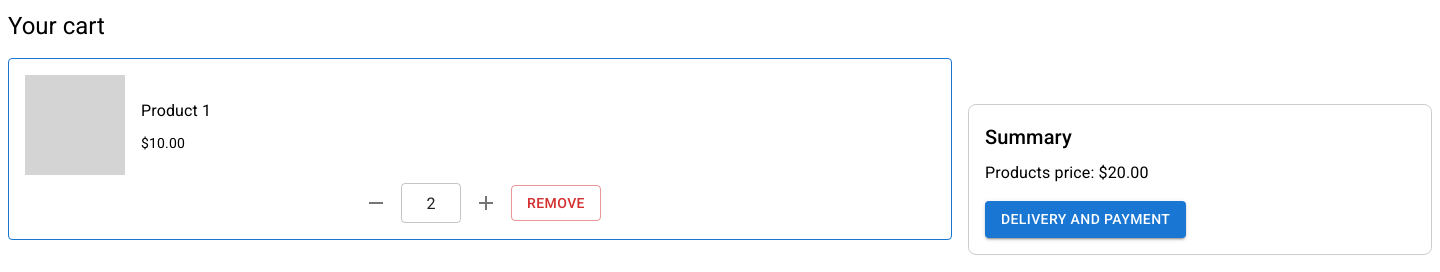
Scenario: Cart integration tests › increments and decrements product quantity
Click the button with test id "increment-button-1" at (486, 203), box left=469, top=186, right=503, bottom=220
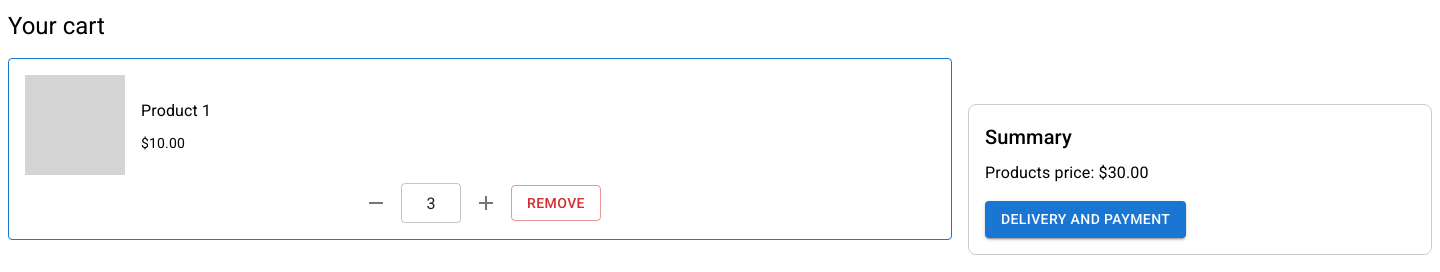
Expected: the number field named "Quantity for product #1" holds "3", left=401, top=183, right=461, bottom=223
Click the button with test id "decrement-button-1" at (376, 203), box left=359, top=186, right=393, bottom=220
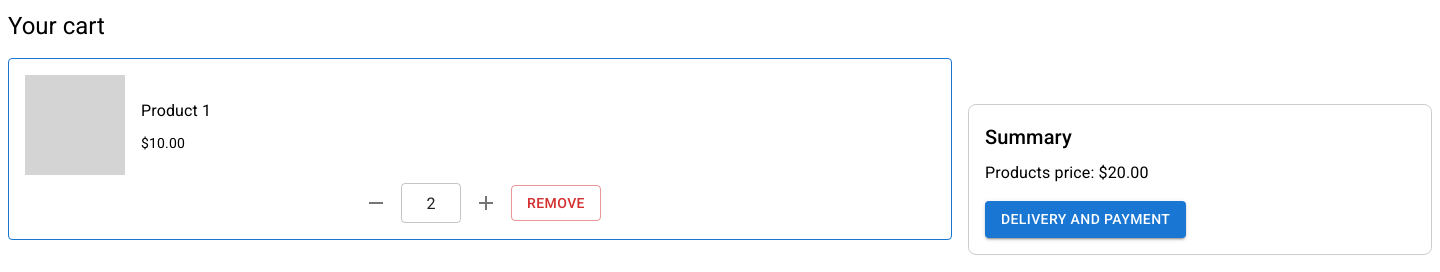
Click the button with test id "decrement-button-1" at (376, 203), box left=359, top=186, right=393, bottom=220
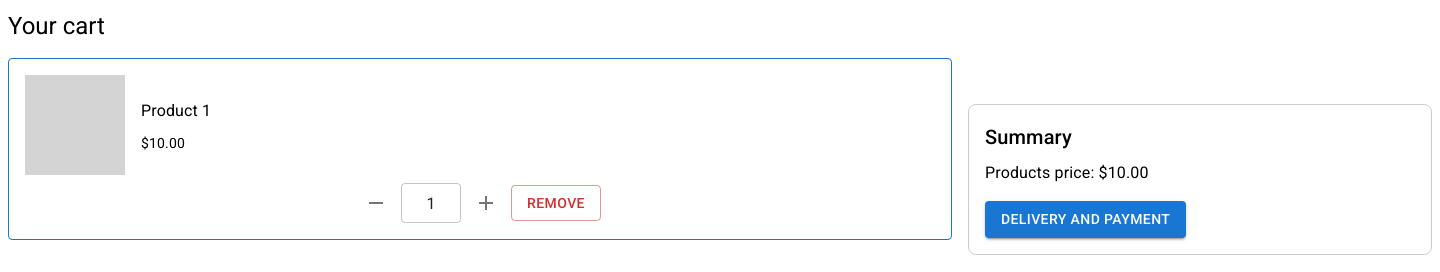
Expected: the number field named "Quantity for product #1" holds "1", left=401, top=183, right=461, bottom=223
